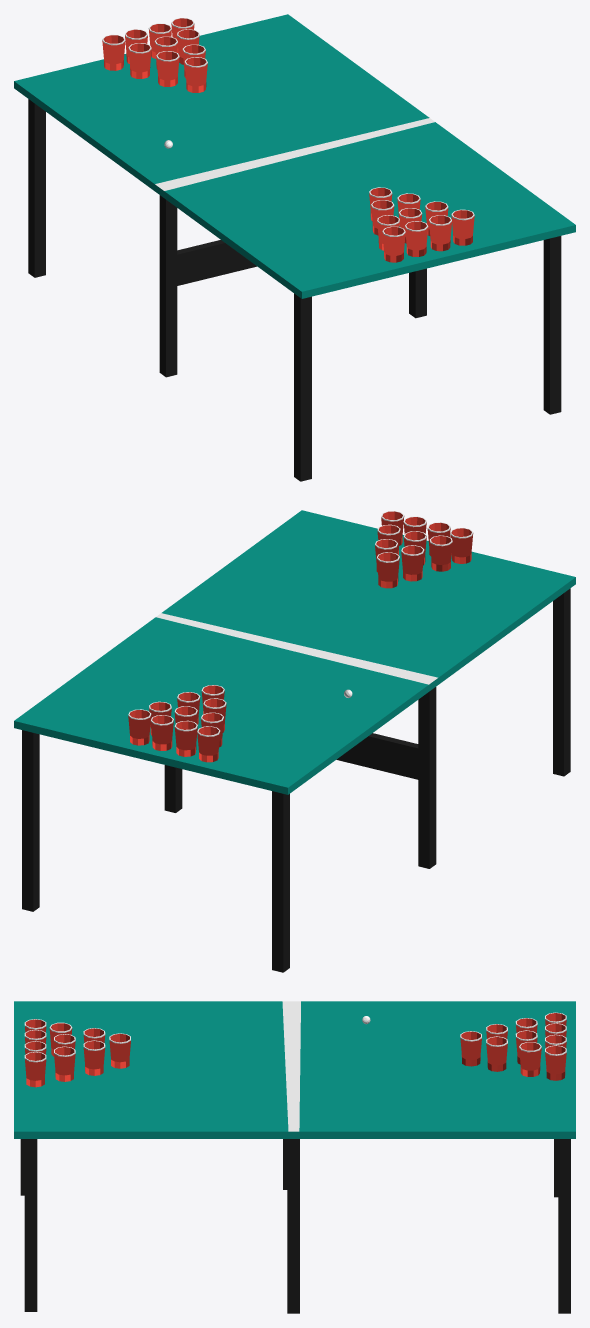
File: BeerPong.glb
3 renders of one model, top to bottom at view 1: azimuth 30°, elevation 25°; view 2: azimuth 150°, elevation 25°; view 3: azimuth 270°, elevation 25°, orthographic. The views are drawn at different scales.
Visible parts, largest first — view 1: Node; view 2: Node; view 3: Node.
Boxes of the visible parts, x1=… form: Node: x1=14, y1=14, x2=575, y2=481; Node: x1=14, y1=510, x2=575, y2=972; Node: x1=14, y1=1001, x2=575, y2=1313.
Size of the model in its own units: 0.2095 by 0.1608 by 0.3811.
